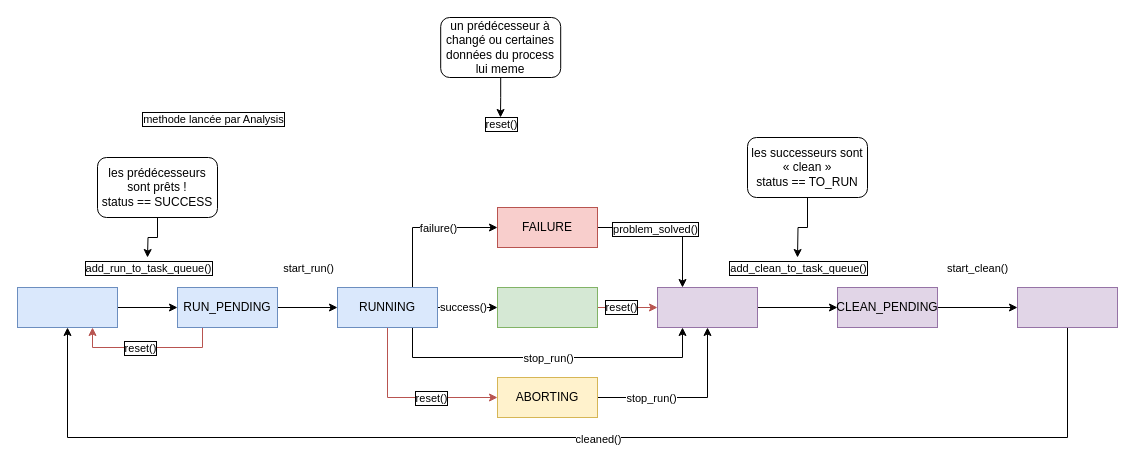
Some shapes in this 1135 by 463 pixel diagram are drawn without their labels. Each missing label, with the centre of its shape:
CLEANING: the point at 1067,307
SUCCESS: the point at 547,307
TO_CLEAN: the point at 707,307
TO_RUN: the point at 67,307
